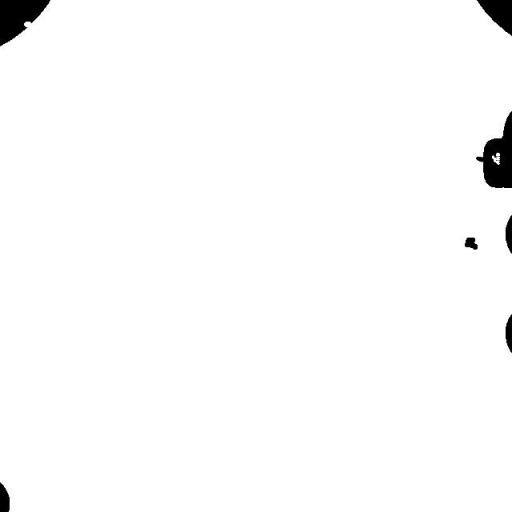copper: (457, 230, 485, 256)
mousebite: (16, 14, 39, 34)
pin-hole: (484, 145, 507, 172)
spur: (468, 148, 492, 170)
